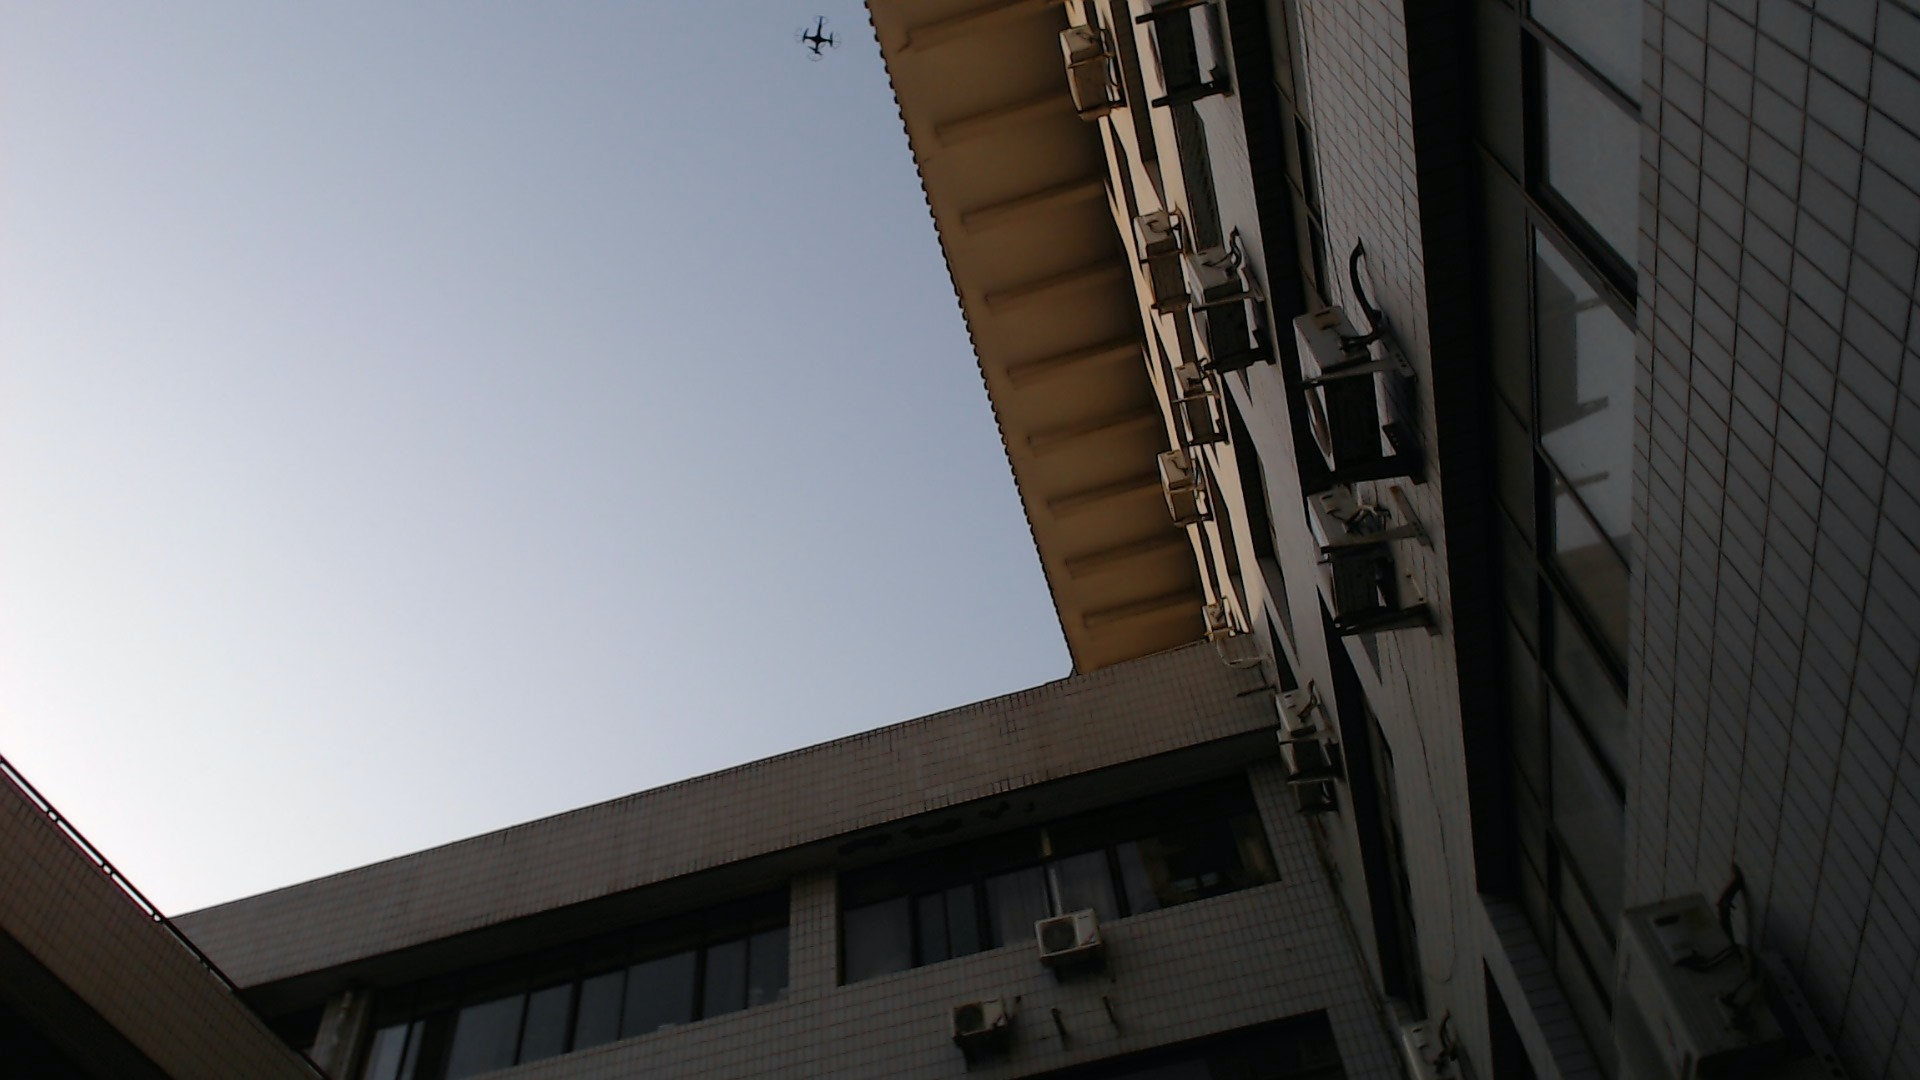drone: (789, 13, 844, 65)
